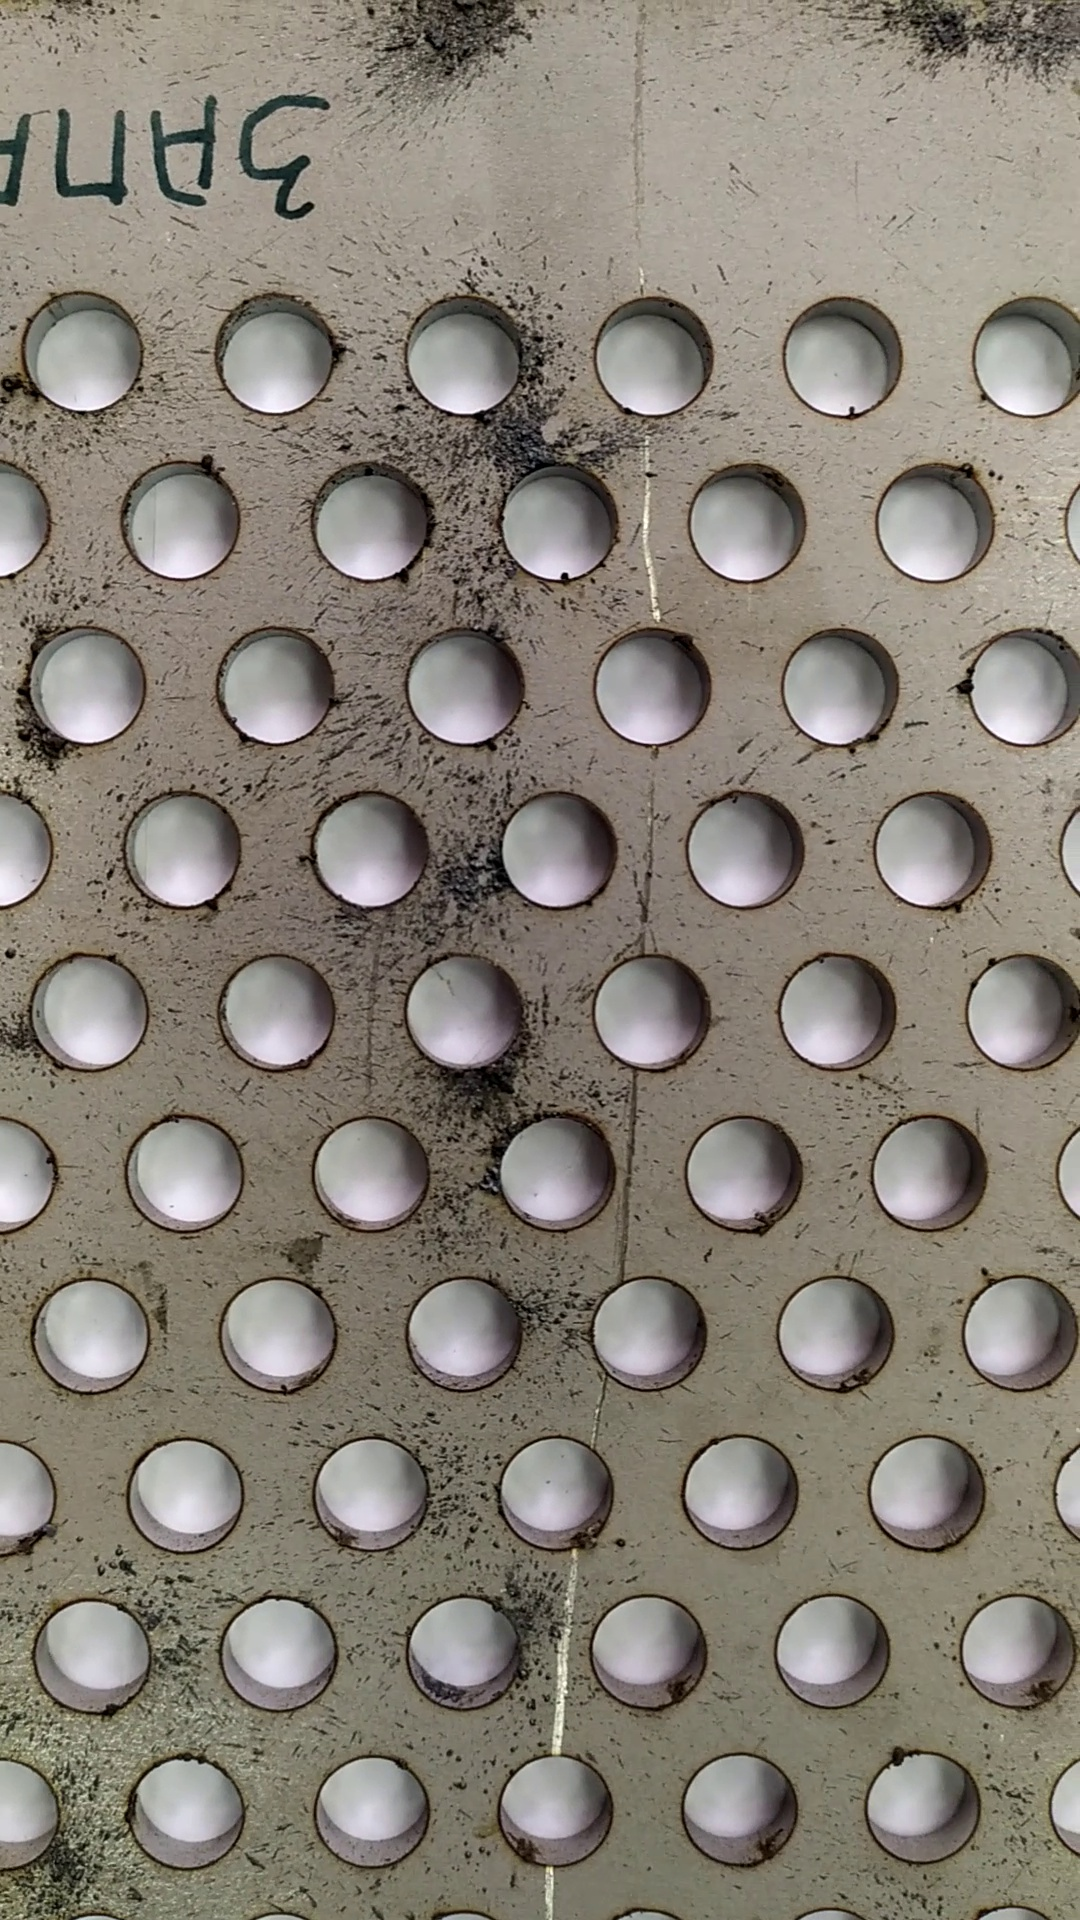Hole: (665, 1102, 822, 1242), (753, 1577, 906, 1720), (12, 277, 164, 419), (202, 281, 351, 425), (204, 1262, 353, 1404), (487, 452, 634, 595), (108, 781, 257, 922), (574, 1582, 727, 1720), (212, 1581, 357, 1724), (767, 1258, 906, 1407), (769, 280, 913, 422), (16, 944, 164, 1083), (767, 945, 910, 1085), (108, 456, 257, 589), (853, 1109, 1000, 1244), (22, 1269, 171, 1400), (585, 620, 727, 758), (582, 1269, 723, 1407), (392, 284, 535, 419), (669, 1742, 812, 1876), (487, 1746, 632, 1879), (18, 1589, 169, 1717), (865, 454, 1006, 589), (673, 458, 814, 593), (113, 1428, 255, 1564), (669, 1420, 810, 1556), (295, 1429, 438, 1564), (394, 1266, 531, 1403), (582, 945, 720, 1081), (858, 1428, 998, 1563), (676, 785, 810, 924), (302, 1112, 448, 1238), (945, 1266, 1080, 1403), (392, 945, 530, 1079), (298, 458, 440, 587), (853, 1742, 996, 1871), (389, 1586, 534, 1713), (301, 781, 436, 915), (489, 779, 622, 916), (865, 783, 998, 920), (396, 618, 534, 750), (489, 1106, 618, 1247), (583, 289, 724, 417), (485, 1429, 626, 1557), (117, 1749, 262, 1873), (951, 940, 1080, 1079), (113, 1109, 255, 1236), (20, 618, 153, 752), (305, 1749, 440, 1879), (781, 622, 906, 762), (212, 944, 345, 1075), (208, 618, 343, 746), (949, 1585, 1080, 1716)
